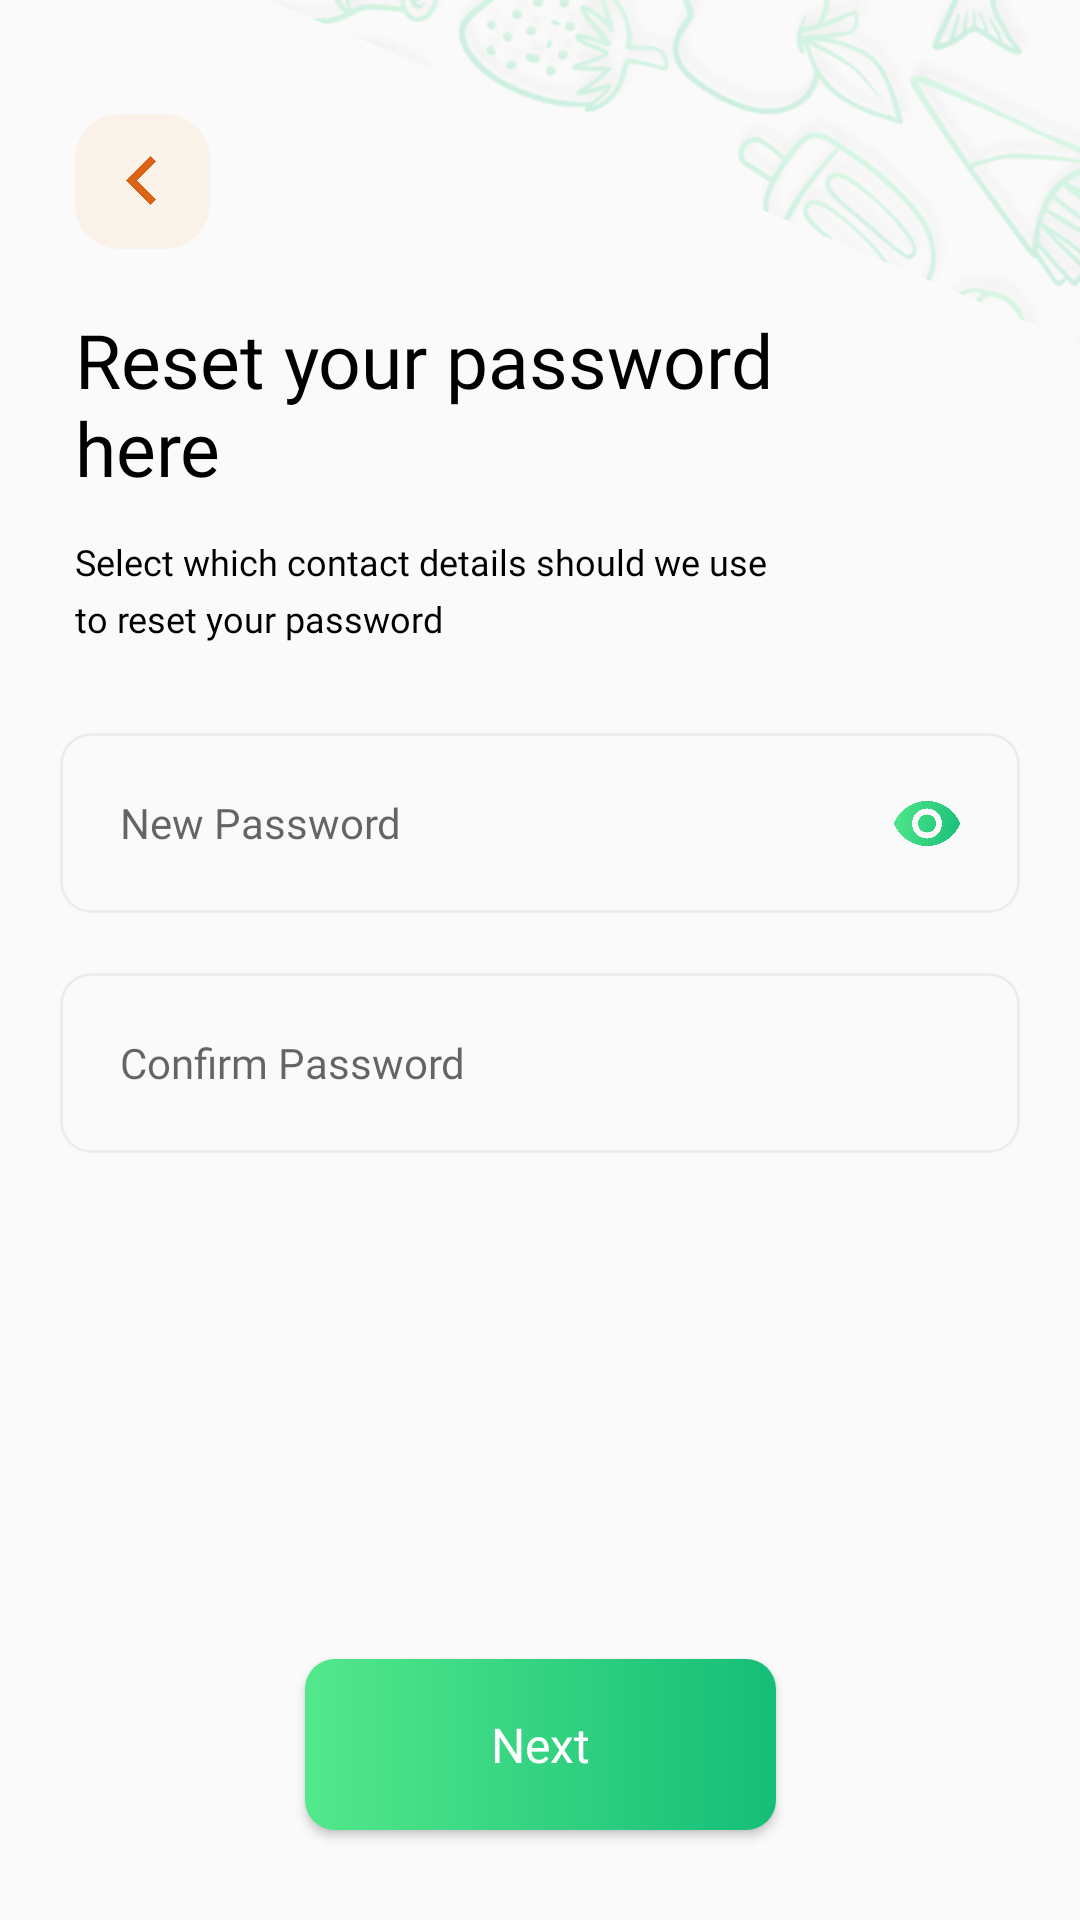

Icons on this 1080 × 1920 Android screen, each with the point to tap as (x,y):
backicon: (142,181)
eyeicon: (927,823)
